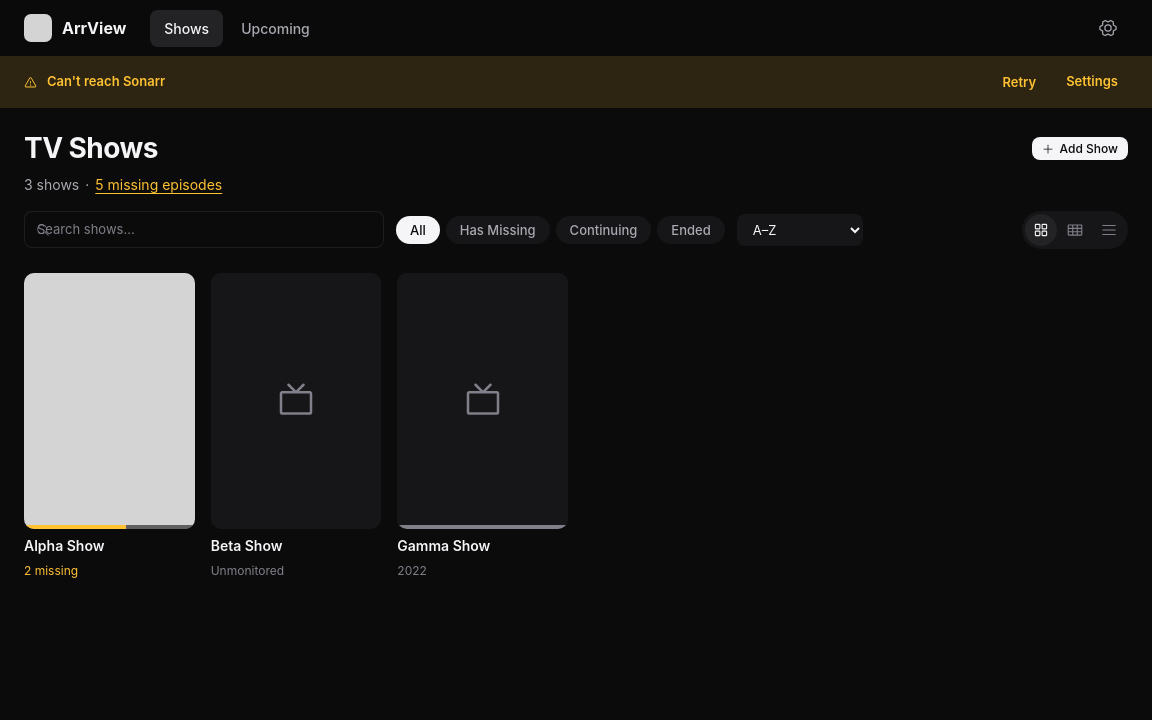
Test case: no banner before the first ping result or for an unconfigured service; Retry re-pings and the banner clears
Expected: the heading "TV Shows" is shown, [24,132,158,166]
Expected: the text "Can't reach Sonarr" is shown, [47,73,165,89]
Click the button with aria-label "Retry Sonarr" at (1019, 82), box [992,66,1046,98]
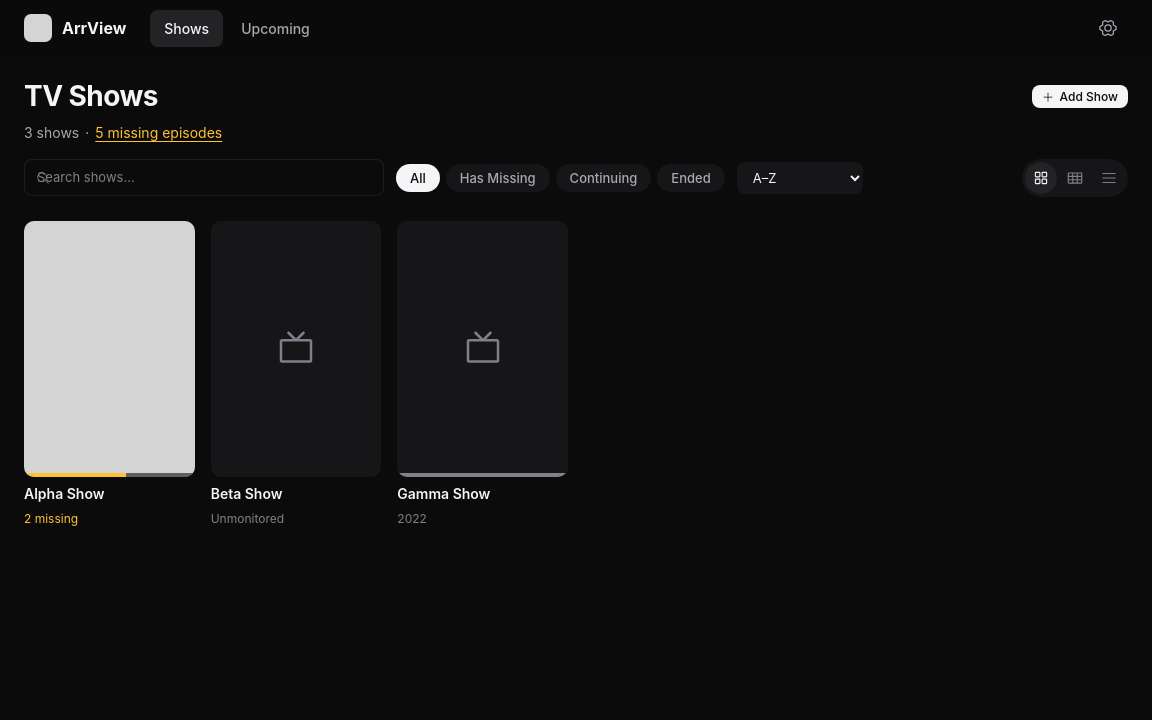
Now the message "Can't reach Sonarr Retry Settings" is gone
